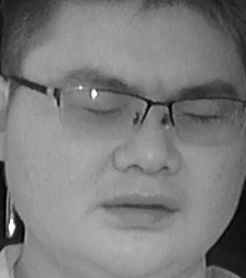blink: (180, 108, 217, 126), (84, 102, 119, 120)
glass: (53, 86, 150, 138), (167, 94, 246, 144)
mouth: (97, 189, 179, 228)
